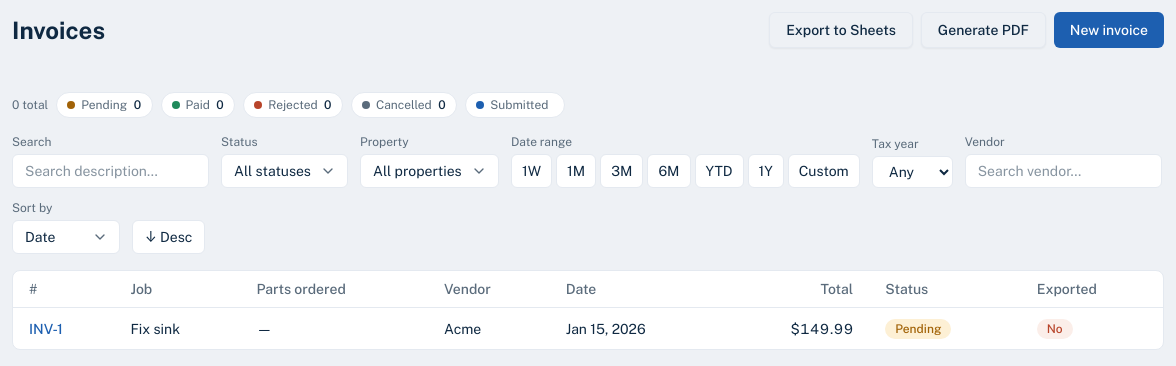
Scenario: InvoiceList — export to Sheets › shows a readable message when export is not configured (503)
Expected: the link "INV-1" is shown, [29,320,63,336]
Click the button "Export to Sheets" at (841, 30), box [769,12,913,48]
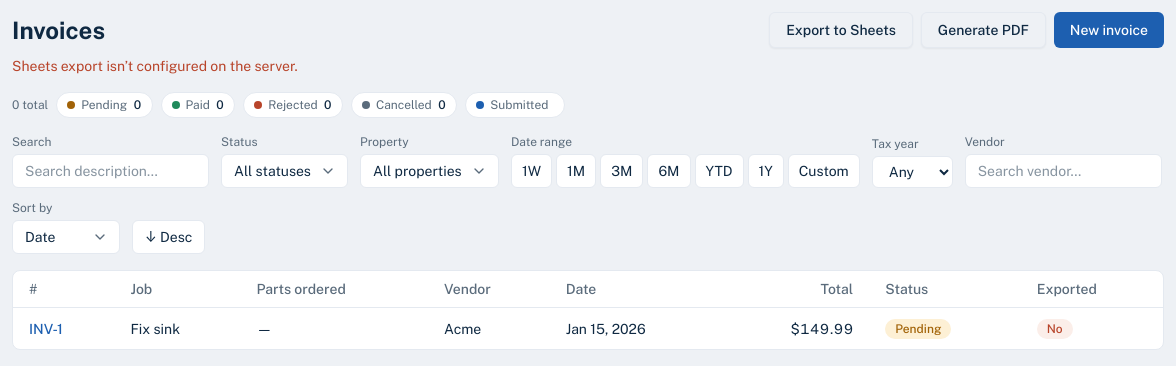
Now the text "Sheets export isn’t configured on the server." is shown, box [12,58,298,74]
